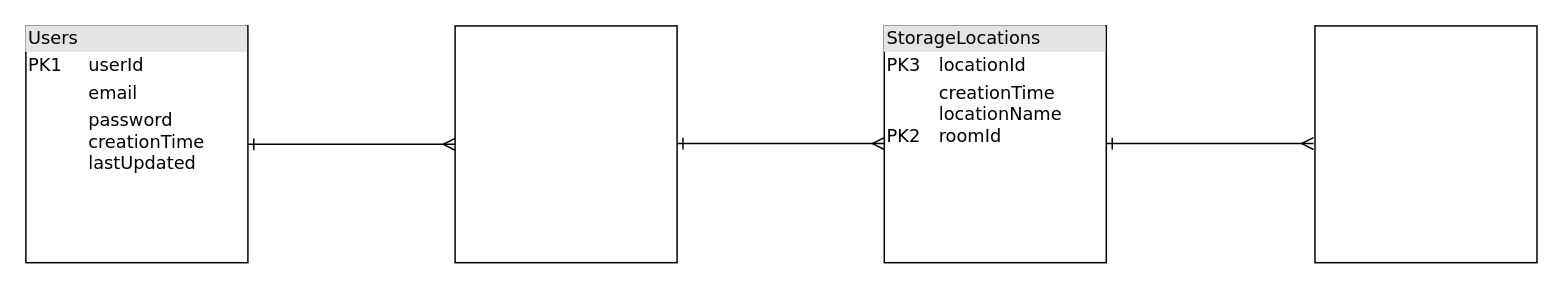
Some shapes in this 1563 by 289 pixel diagram are drawn without their labels. The box of each missing label's shape, as (x1, y1, x2, y2) in pixels:
InventoryItems PK8 commentId creationTime comment PK2 userId: (1314, 24, 1537, 263)
StorageRooms PK2 roomId creationTime PK3 roomName storageLocations PK1 userId: (454, 24, 677, 263)
